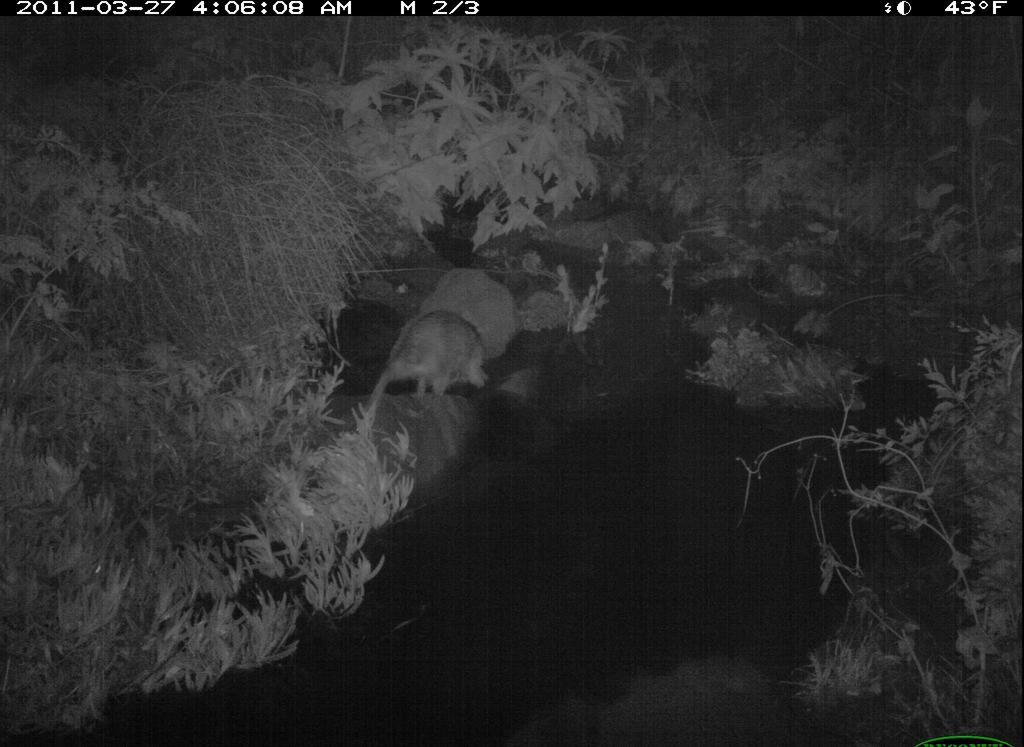raccoon: (361, 304, 495, 431)
